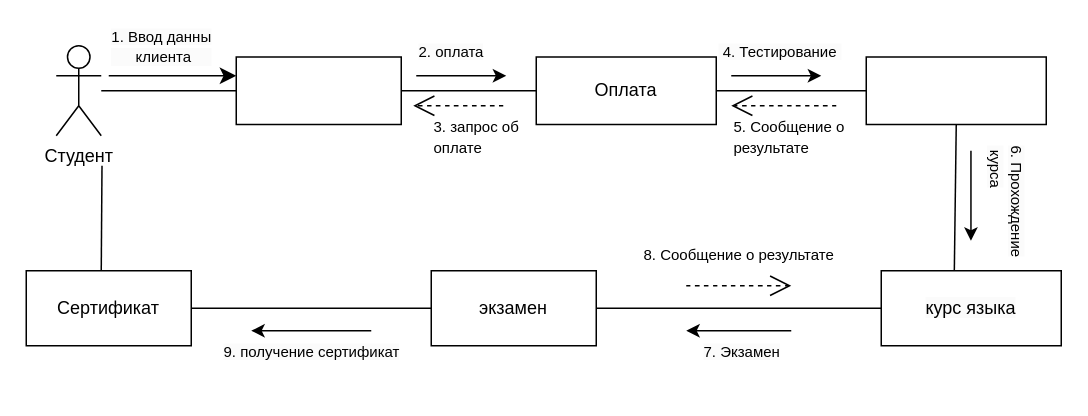
This 1088x416 diagram has some shape labels left out. The shapes that lost their labels are listed below. From the top down, each one's box as (x1, y1, x2, y2) in pixels, then its label:
(235, 56, 401, 124): Регистрация
(865, 56, 1046, 124): Тест на уровень знание языка
